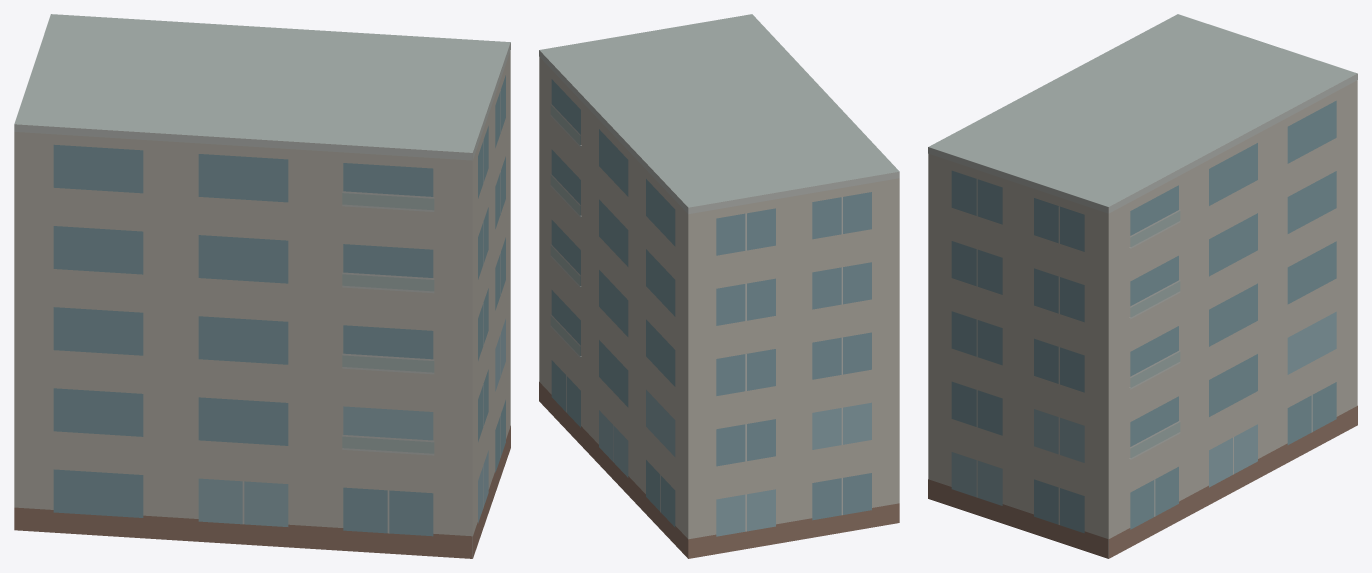
The model's file is survey-upis-32853503.glb.
3 views of the same model, side by side, from view 1: azimuth 30°, elevation 25°; view 2: azimuth 150°, elevation 25°; view 3: azimuth 270°, elevation 25° (orthographic). The views are drawn at different scales.
Parts seen in each view (by area): view 1: survey-upis-32853503.tmp; view 2: survey-upis-32853503.tmp; view 3: survey-upis-32853503.tmp.
Part boxes in pixels (left/top/right/bottom): survey-upis-32853503.tmp: left=14, top=14, right=510, bottom=558; survey-upis-32853503.tmp: left=539, top=14, right=899, bottom=558; survey-upis-32853503.tmp: left=928, top=14, right=1357, bottom=558.
Size of the model in its own units: 15.43 by 13.1 by 14.51.
